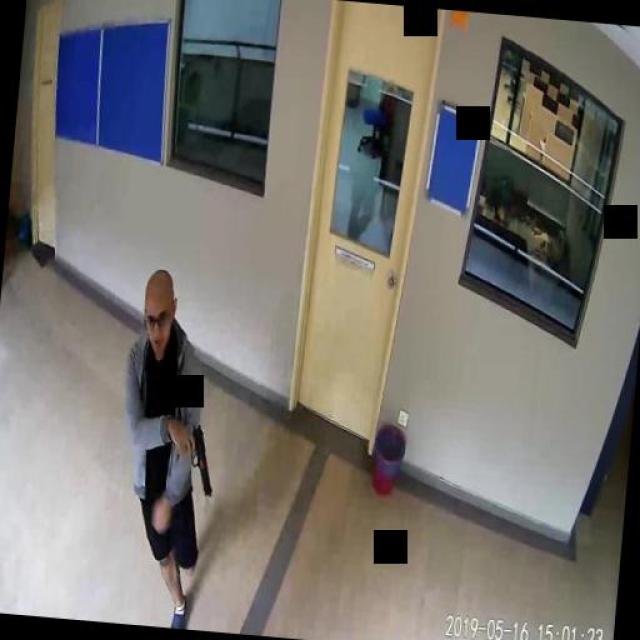gun: (175, 421, 215, 494)
